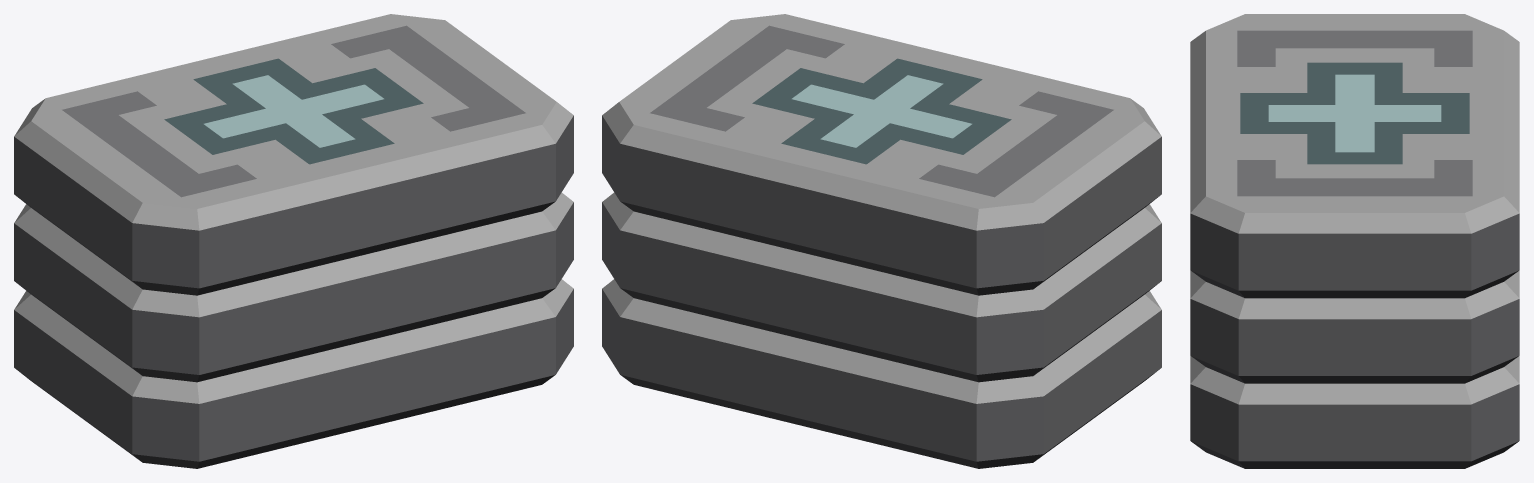
Rendered from item_medicine_ultratech_c.obj.
3 renders of one model, left to right at view 1: azimuth 30°, elevation 25°; view 2: azimuth 150°, elevation 25°; view 3: azimuth 270°, elevation 25°, orthographic.
Size of the model in its own units: 0.672 by 0.378 by 0.441.
